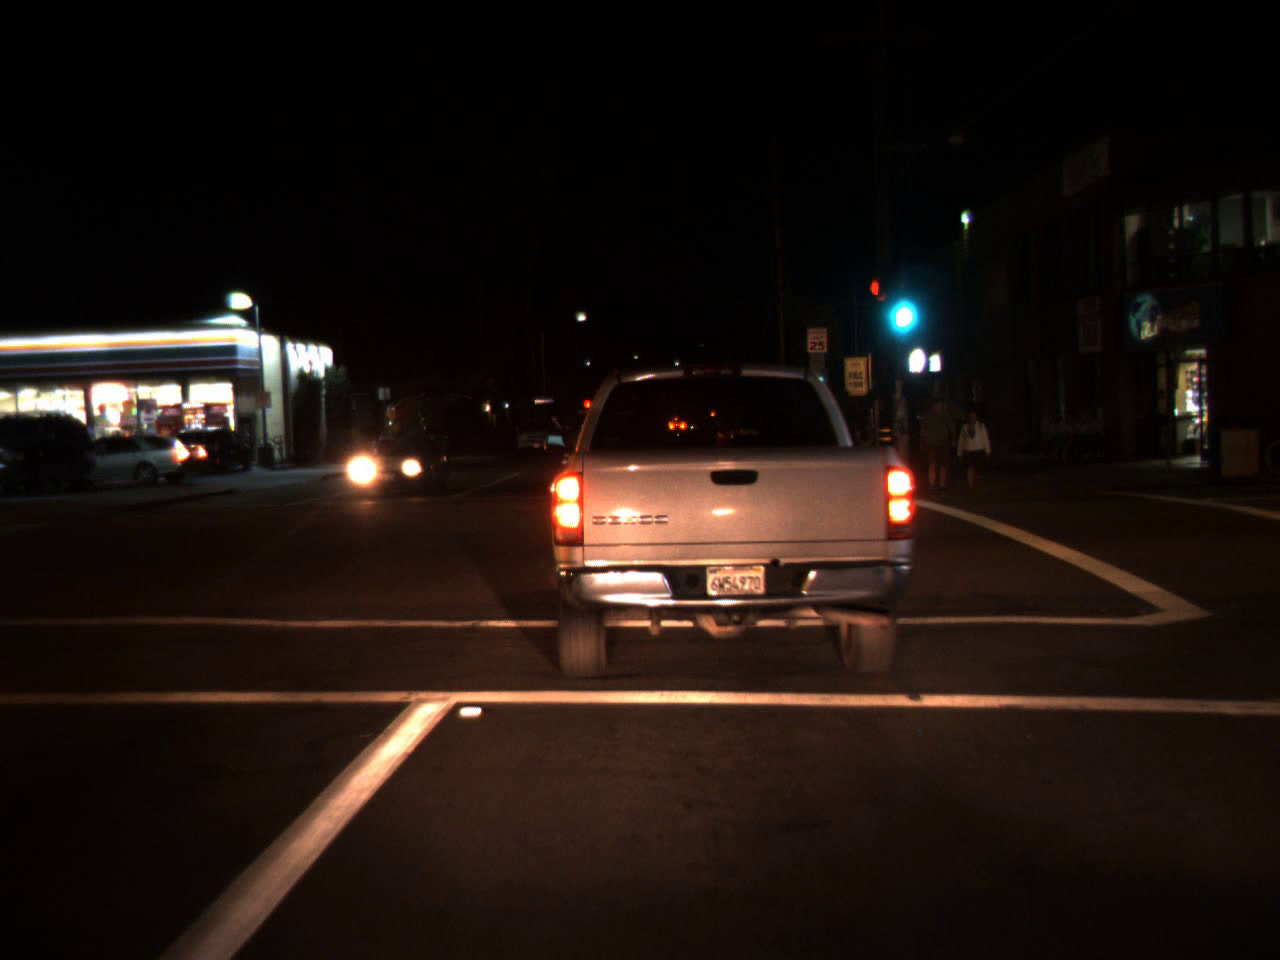go: (877, 264, 922, 342)
stop: (582, 400, 589, 418)
